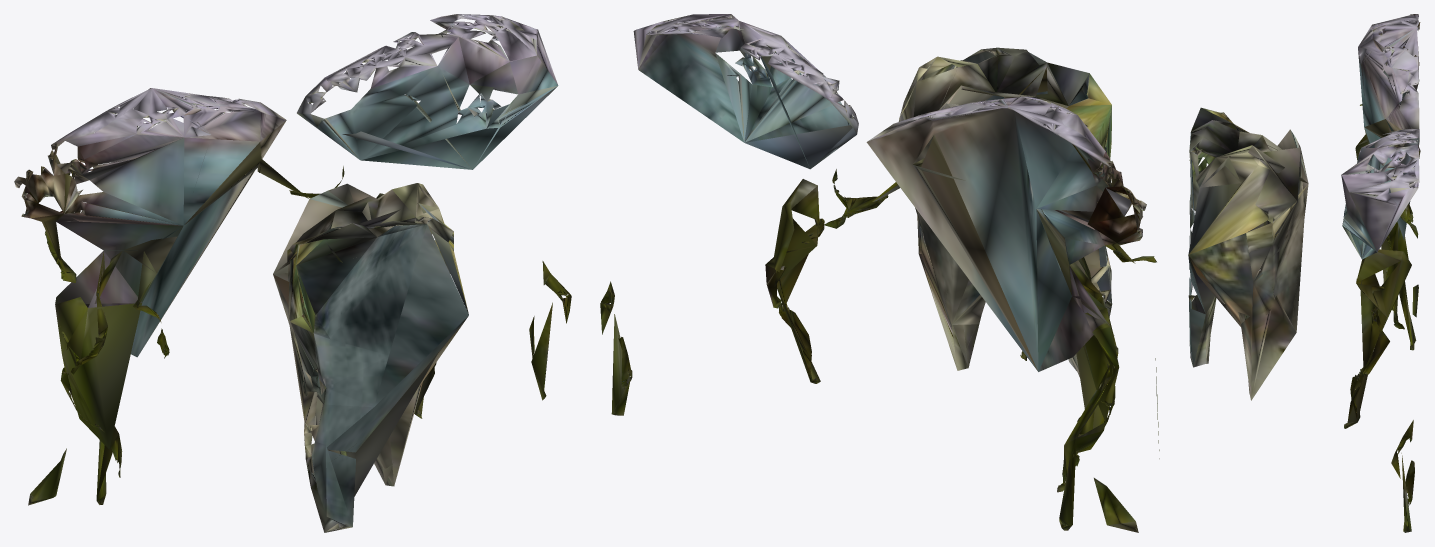
Rendered from dente_pirata_zumbi.glb.
3 views of the same model, side by side, from view 1: azimuth 30°, elevation 25°; view 2: azimuth 150°, elevation 25°; view 3: azimuth 270°, elevation 25° (orthographic). The views are drawn at different scales.
Parts seen in each view (by area): view 1: geometry_0; view 2: geometry_0; view 3: geometry_0.
Boxes of the visible parts, x1,y1,x2,y2 form: geometry_0: (14, 14, 571, 532); geometry_0: (600, 14, 1159, 532); geometry_0: (1188, 14, 1420, 532).
Size of the model in its own units: 1 by 0.7037 by 0.4292.
Materials: 1 (1 with a texture image).
